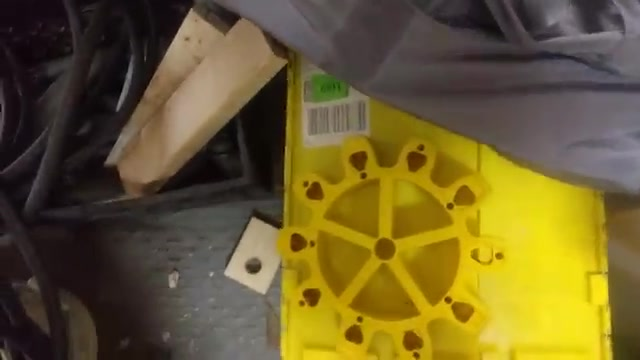gear: (275, 126, 515, 360)
